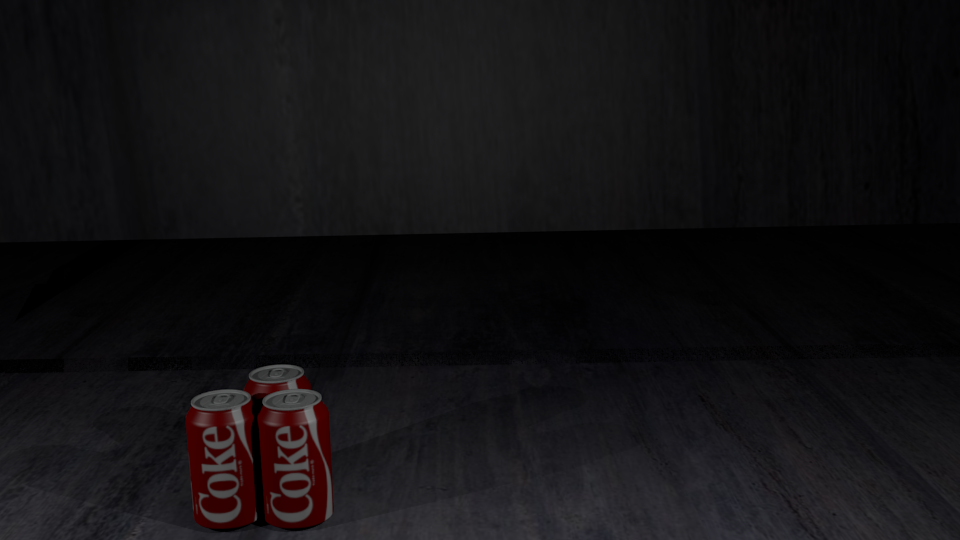cola_can: (186, 390, 260, 525), (257, 389, 331, 523), (244, 365, 309, 491)
